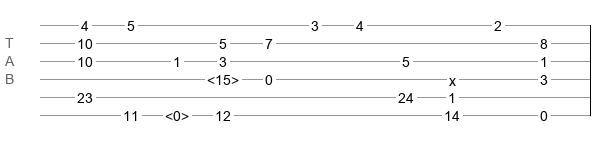0: (265, 72, 273, 82), (540, 108, 548, 118)
1: (173, 54, 181, 64), (448, 90, 456, 100), (540, 54, 548, 64)
10: (77, 54, 93, 64), (77, 36, 93, 46)
11: (123, 108, 139, 118)
12: (215, 108, 231, 118)
14: (444, 108, 460, 118)
2: (494, 18, 502, 28)
23: (77, 90, 93, 100)
24: (398, 90, 414, 100)
3: (219, 54, 227, 64), (311, 18, 319, 28), (540, 72, 548, 82)
4: (81, 18, 89, 28), (356, 18, 364, 28)
5: (127, 18, 135, 28), (219, 36, 227, 46), (402, 54, 410, 64)
7: (265, 36, 273, 46)
8: (540, 36, 548, 46)
harmonic: (207, 72, 239, 82), (165, 108, 189, 118)
x: (449, 73, 456, 81)
